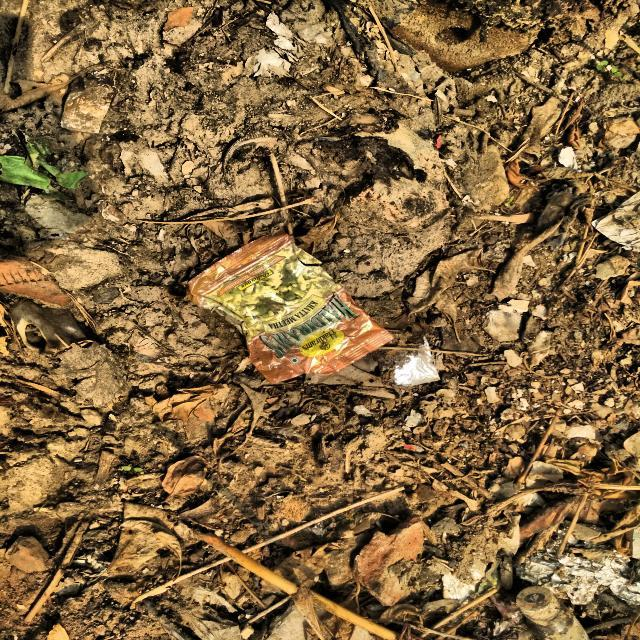anorganik: (176, 239, 406, 388)
